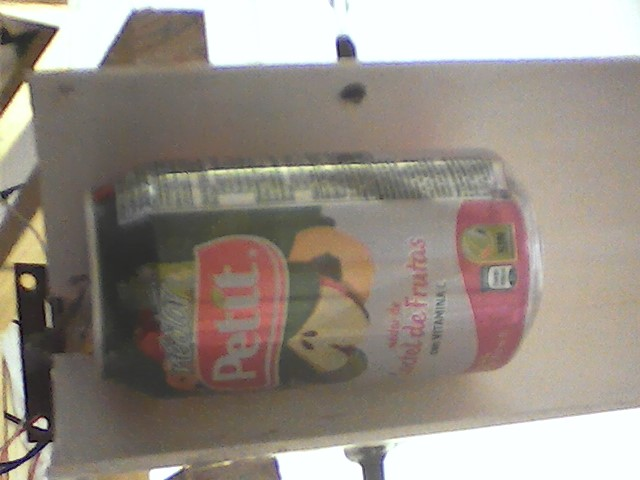lata: (80, 138, 551, 409)
